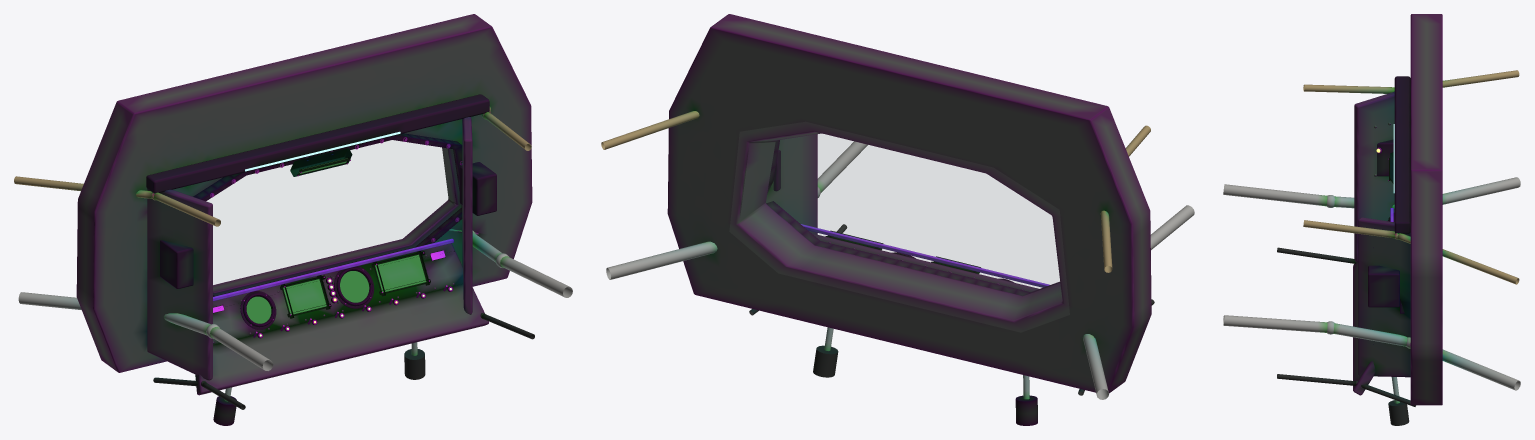
File: walker.glb
The picture shows the model from 3 angles, left to right: view 1: azimuth 30°, elevation 25°; view 2: azimuth 150°, elevation 25°; view 3: azimuth 270°, elevation 25°; orthographic projection. The views are drawn at different scales.
Visible parts, largest first — view 1: static.paint, glass.visor, static.paint_dark, static.steel, static.brass, static.screen.weapons, static.trim, static.screen.hull, static.rubber, static.screen.radar, grid.anim.stick_r, grid.anim.stick_l (+1 smaller); view 2: static.paint, glass.visor, static.steel, static.paint_dark, static.brass, static.trim, grid.anim.stick_r, grid.anim.stick_l; view 3: static.paint, static.steel, static.paint_dark, static.brass, static.rubber, grid.anim.stick_r.
Part boxes in pixels (x1,y1,x2,y2): static.paint: [76, 14, 532, 395]; glass.visor: [207, 140, 447, 284]; static.paint_dark: [146, 94, 496, 338]; static.steel: [18, 137, 572, 370]; static.brass: [14, 106, 531, 226]; static.screen.weapons: [375, 254, 426, 292]; static.trim: [213, 238, 453, 301]; static.screen.hull: [283, 279, 326, 314]; static.rubber: [153, 312, 534, 409]; static.screen.radar: [340, 271, 369, 302]; grid.anim.stick_r: [404, 342, 425, 379]; grid.anim.stick_l: [213, 387, 236, 425]; static.paint: [667, 14, 1151, 393]; glass.visor: [730, 122, 1069, 331]; static.steel: [606, 141, 1194, 399]; static.paint_dark: [766, 140, 1060, 295]; static.brass: [601, 111, 1150, 272]; static.trim: [801, 224, 1049, 287]; grid.anim.stick_r: [813, 327, 838, 377]; grid.anim.stick_l: [1015, 375, 1037, 425]; static.paint: [1353, 14, 1442, 405]; static.steel: [1223, 147, 1520, 390]; static.paint_dark: [1368, 76, 1410, 313]; static.brass: [1303, 70, 1519, 284]; static.rubber: [1277, 247, 1415, 406]; grid.anim.stick_r: [1388, 377, 1409, 425].
Bounding box in the file's own units: 1.86 × 1.2 × 1.11.
